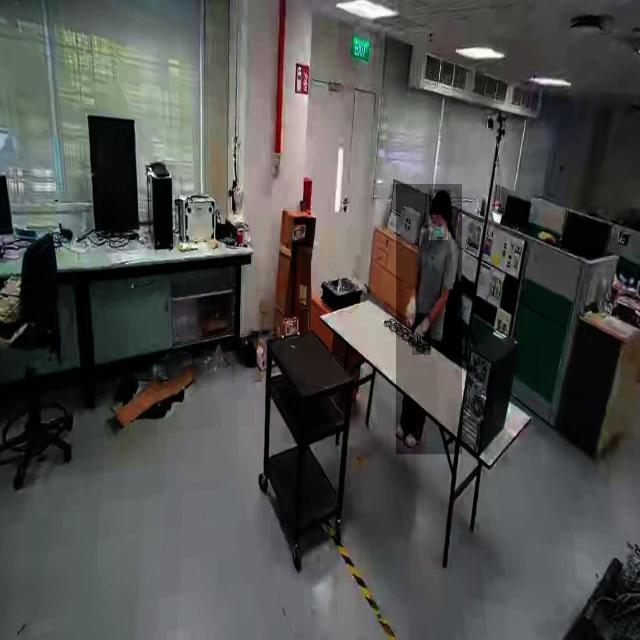face_mask: (428, 215, 448, 240)
hand_glove: (412, 313, 432, 355), (403, 289, 415, 329)
head_nohelmet: (429, 190, 451, 214)
person: (396, 184, 462, 455)
shoes: (402, 422, 426, 449), (392, 418, 418, 442)
